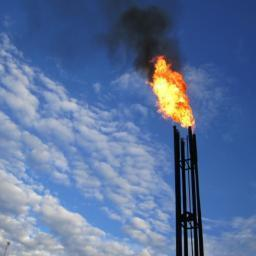fire: (145, 55, 195, 135)
smoke: (93, 0, 184, 80)
